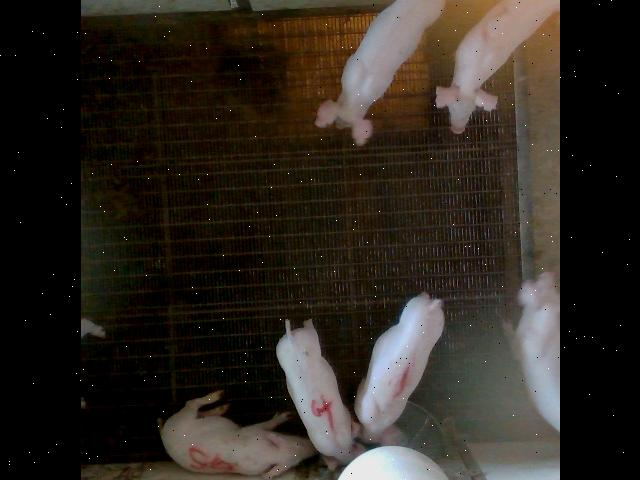pig-1: (354, 292, 443, 441)
pig-2: (435, 0, 559, 134)
pig-4: (275, 320, 354, 462)
pig-5: (158, 390, 314, 479)
